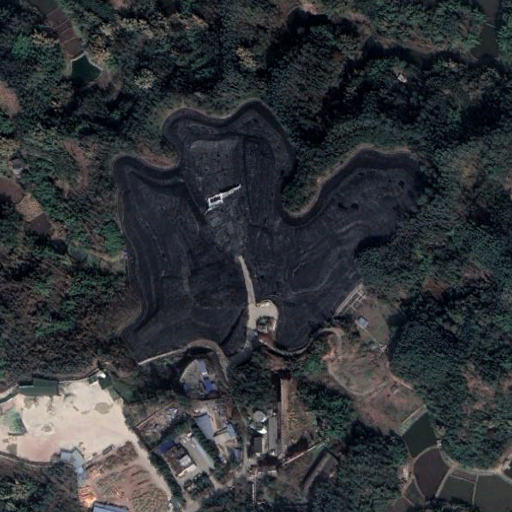lf: (115, 99, 426, 367)
